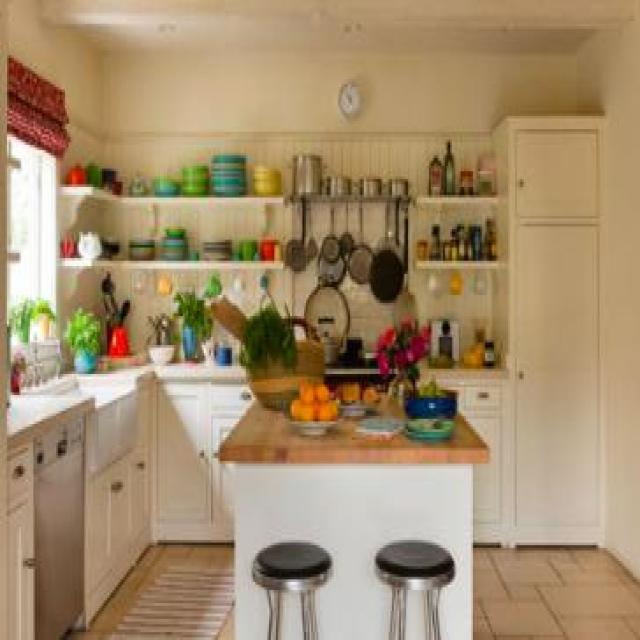dishwasher: (32, 403, 84, 637)
